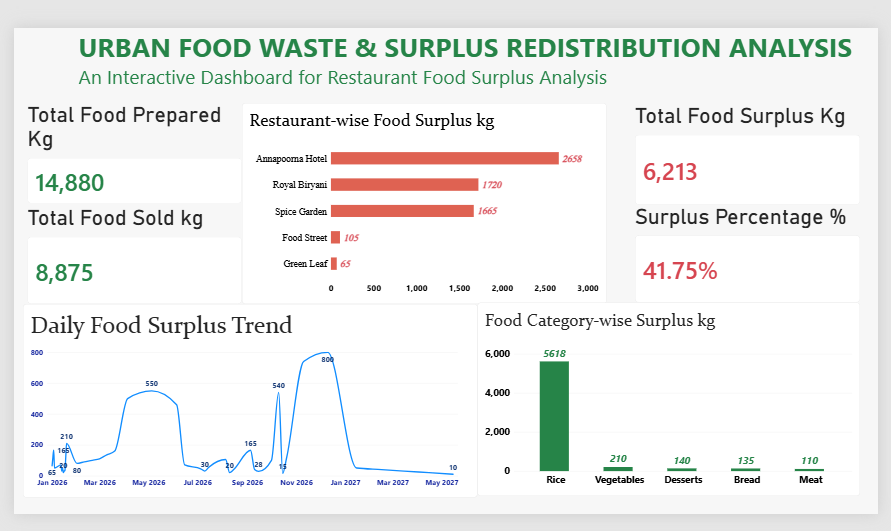

What the dashboard file says about the page in this screenshot:
{"tool":"powerbi","page":{"name":"Page 1","canvas":[1920,1080],"ordinal":0},"visuals":[{"type":"cardVisual","title":"Total Food Surplus Kg","fields":{"Data":["food_waste_analysis food_surplus.Total Surplus Display"]},"box":[1380,166.7,500,226.7],"z":0},{"type":"cardVisual","title":"Total Food Prepared Kg","fields":{"Data":["food_waste_analysis food_surplus.Total Prepared Display"]},"box":[30,163.3,476.7,226.7],"z":1000},{"type":"cardVisual","title":"Total Food Sold kg","fields":{"Data":["food_waste_analysis food_surplus.Total Sold Kg"]},"box":[30,393.3,476.7,220],"z":2000},{"type":"cardVisual","title":"Surplus Percentage %","fields":{"Data":["food_waste_analysis food_surplus.Surplus Percentage"]},"box":[1380,390,500,220],"z":3000},{"type":"clusteredBarChart","title":"Restaurant-wise Food Surplus kg","fields":{"Category":["food_waste_analysis restaurents.restaurent_name"],"Y":["Sum(food_waste_analysis food_surplus.surplus_kg)"]},"box":[506.7,166.7,810,446.7],"z":4000},{"type":"clusteredColumnChart","title":"Food Category-wise Surplus kg","fields":{"Category":["food_waste_analysis food_categories.category_name"],"Y":["Sum(food_waste_analysis food_surplus.surplus_kg)"]},"box":[1030,610,850,430],"z":5000},{"type":"lineChart","title":"Daily Food Surplus Trend","fields":{"Category":["food_waste_analysis food_surplus.food_date"],"Y":["Sum(food_waste_analysis food_surplus.surplus_kg)"]},"box":[20,613.3,1010,430],"z":6000},{"type":"textbox","box":[141.9,0,1777.4,138.7],"z":7000}]}

Visuals, with their boxes on the page's 1920x1080 design canvas (x1, y1, x2, y2). These are canvas units, not pixel positions in the 891x531 screenshot, which may show the page scaled, cropped or inside an application window:
"Total Food Surplus Kg" cardVisual: Rect(1380, 167, 1880, 393)
"Total Food Prepared Kg" cardVisual: Rect(30, 163, 507, 390)
"Total Food Sold kg" cardVisual: Rect(30, 393, 507, 613)
"Surplus Percentage %" cardVisual: Rect(1380, 390, 1880, 610)
"Restaurant-wise Food Surplus kg" clusteredBarChart: Rect(507, 167, 1317, 613)
"Food Category-wise Surplus kg" clusteredColumnChart: Rect(1030, 610, 1880, 1040)
"Daily Food Surplus Trend" lineChart: Rect(20, 613, 1030, 1043)
textbox: Rect(142, 0, 1919, 139)
